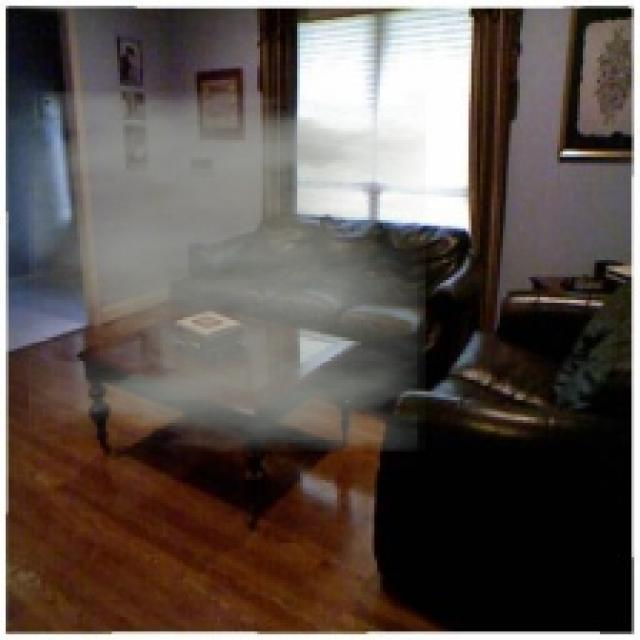Smoke: (28, 91, 426, 452)
